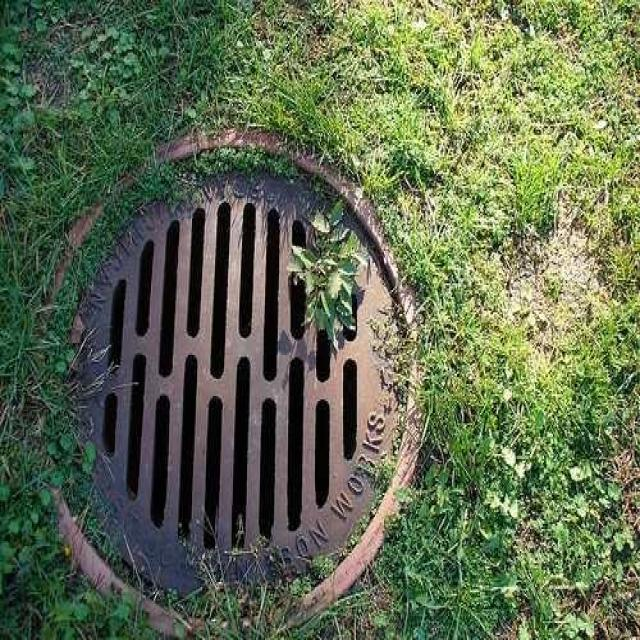manhole: (24, 130, 428, 640)
